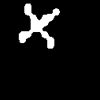single_crochet: (19, 4, 59, 47)
